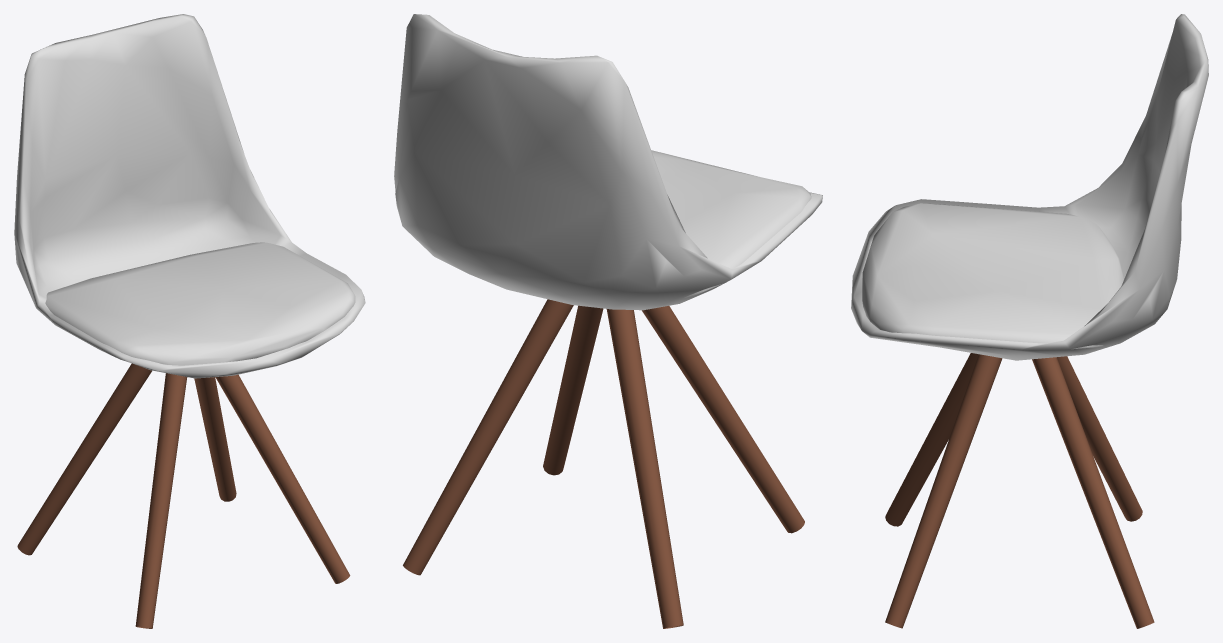
File: prop_Chair.glb
The picture shows the model from 3 angles, left to right: view 1: azimuth 30°, elevation 25°; view 2: azimuth 150°, elevation 25°; view 3: azimuth 270°, elevation 25°; orthographic projection. The views are drawn at different scales.
Parts seen in each view (by area): view 1: Chair; view 2: Chair; view 3: Chair.
Boxes of the visible parts, x1=… form: Chair: x1=14, y1=14, x2=365, y2=628; Chair: x1=394, y1=14, x2=822, y2=628; Chair: x1=851, y1=14, x2=1208, y2=628.
Bounding box in the file's own units: 0.4759 × 0.8341 × 0.5174.
2 materials, 1 textured.
